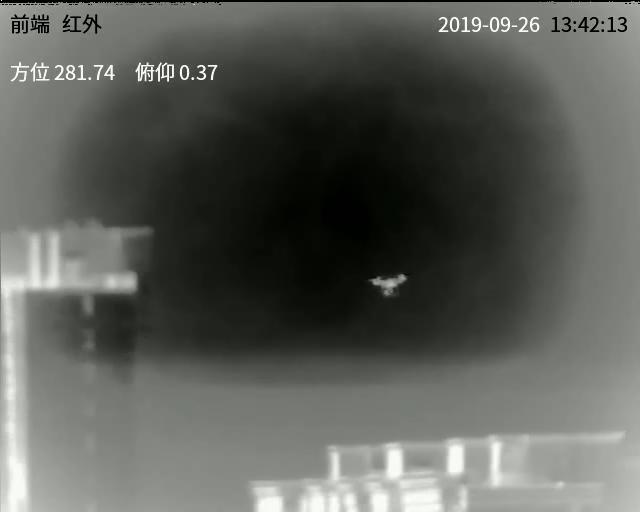uav: (367, 270, 408, 300)
